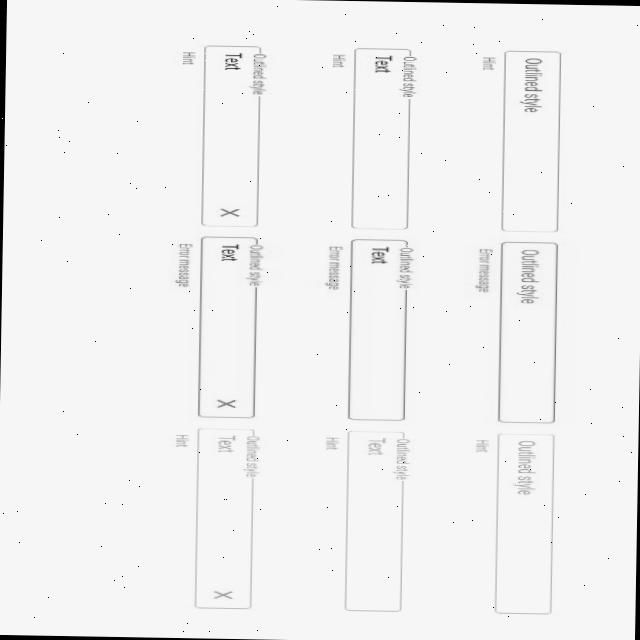VTextField: (172, 234, 264, 418), (168, 426, 260, 610), (467, 432, 558, 616), (323, 238, 414, 422), (319, 429, 410, 613), (326, 46, 416, 230), (177, 44, 266, 226), (472, 241, 560, 424), (477, 49, 564, 232)
